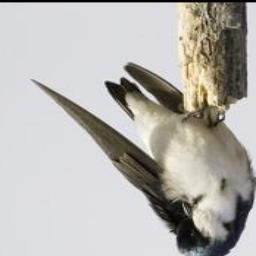Swallow: (31, 61, 256, 256)
